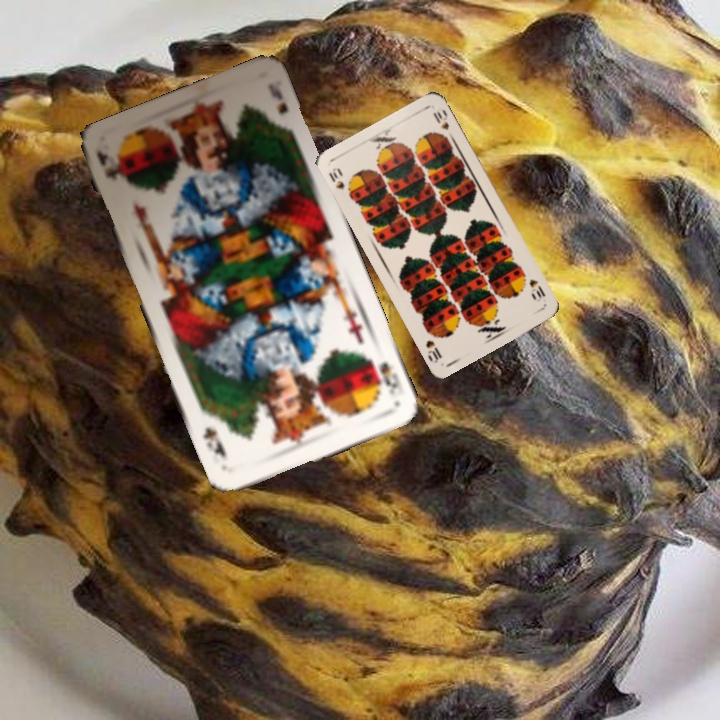S10: (324, 164, 354, 198), (525, 275, 548, 301)
SK: (365, 354, 403, 398), (92, 147, 120, 183)
